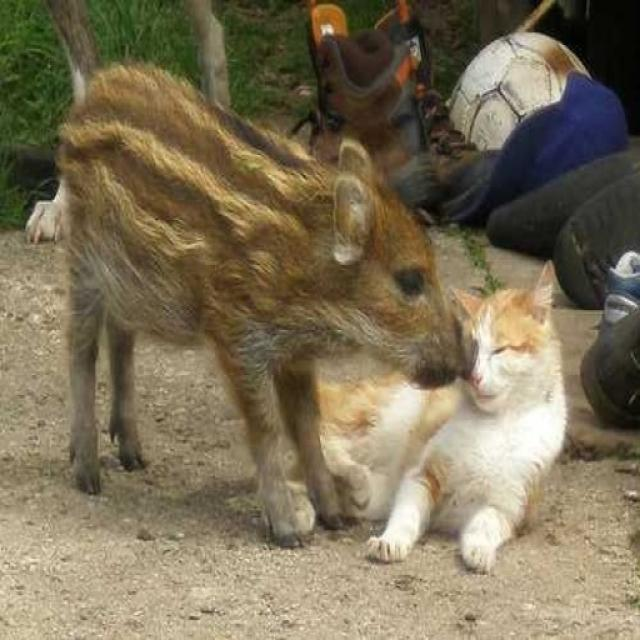pig: (33, 36, 443, 403)
